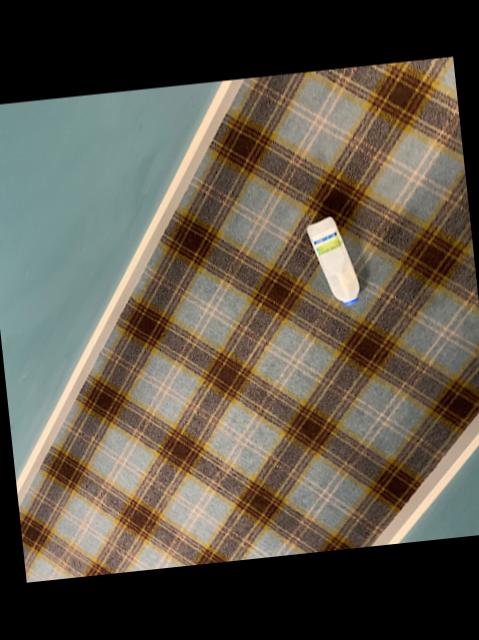plastic: (305, 216, 357, 304)
